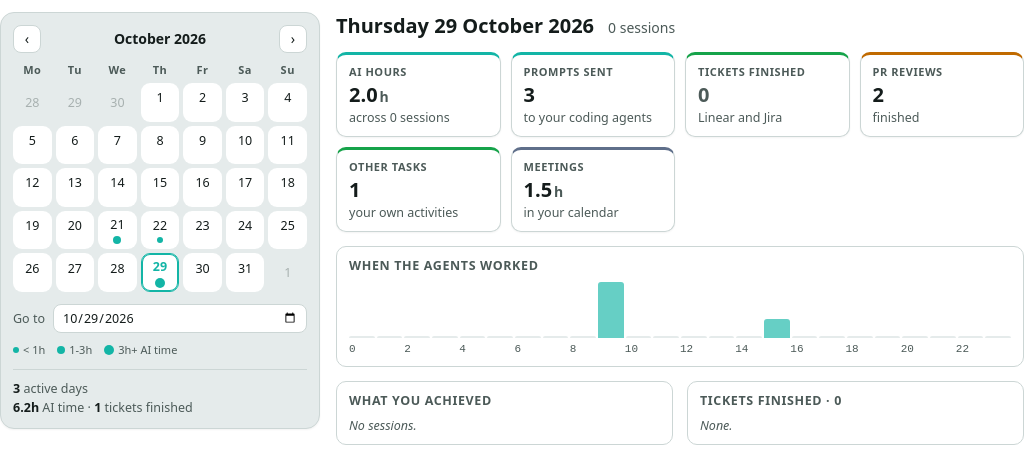
History › says so for an empty day
The image size is (1024, 462).
What coordinates should you click on to do the following:
click the button named "23 October"
I would click on:
 (203, 230)
Its box is 183,211 -> 222,249.
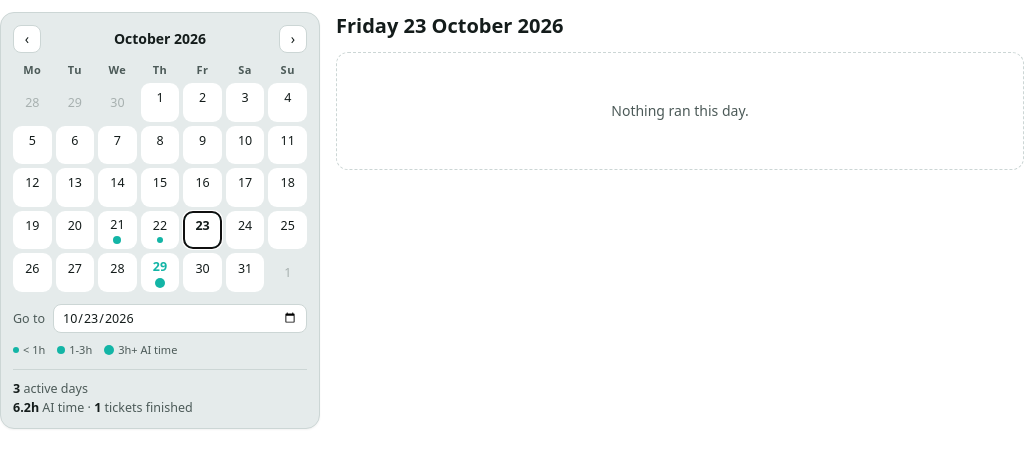
Result: the text "Nothing ran this day." is shown at 336,52 -> 1023,170
